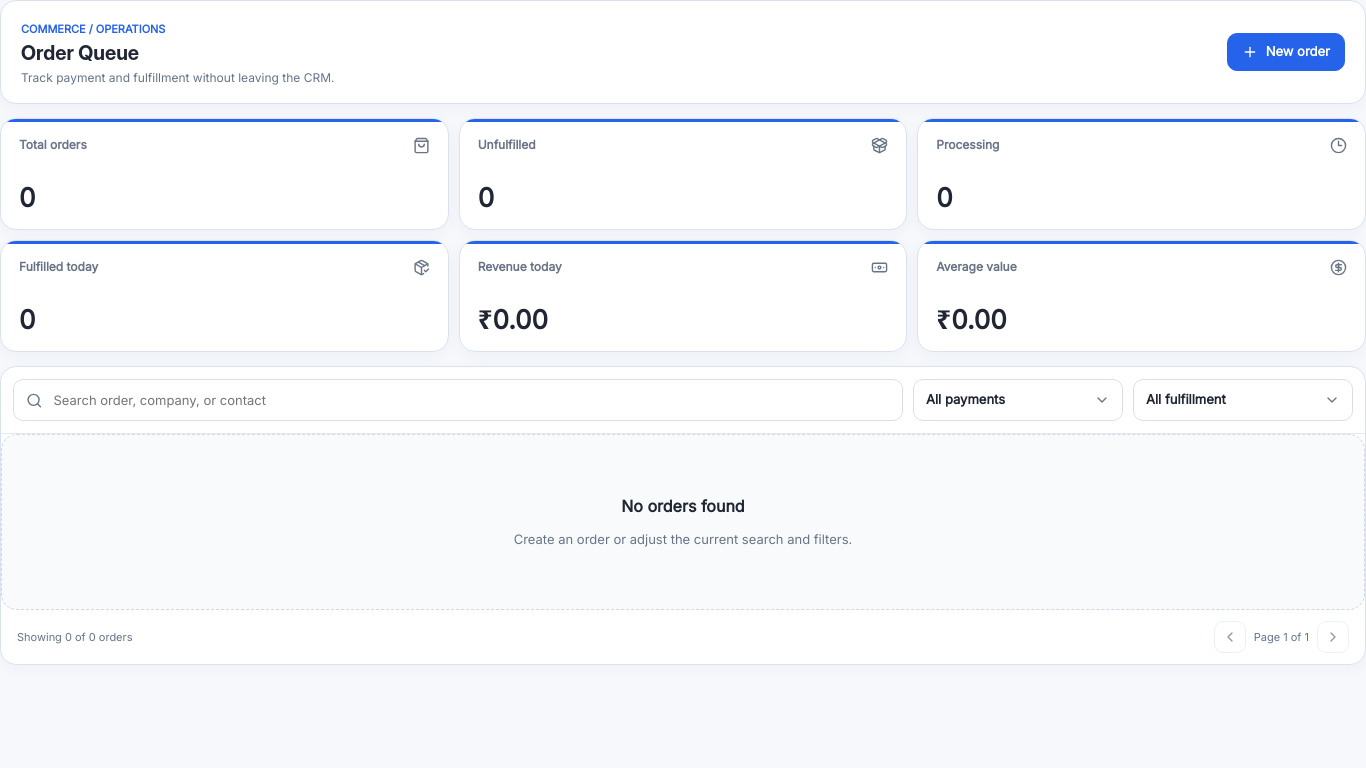
Test case: order record options › shows recently updated won companies first with separate, readable details
The width and height of the screenshot is (1366, 768).
Step 1. Click the button "New order" → (1286, 52), box [1227,33,1345,71]
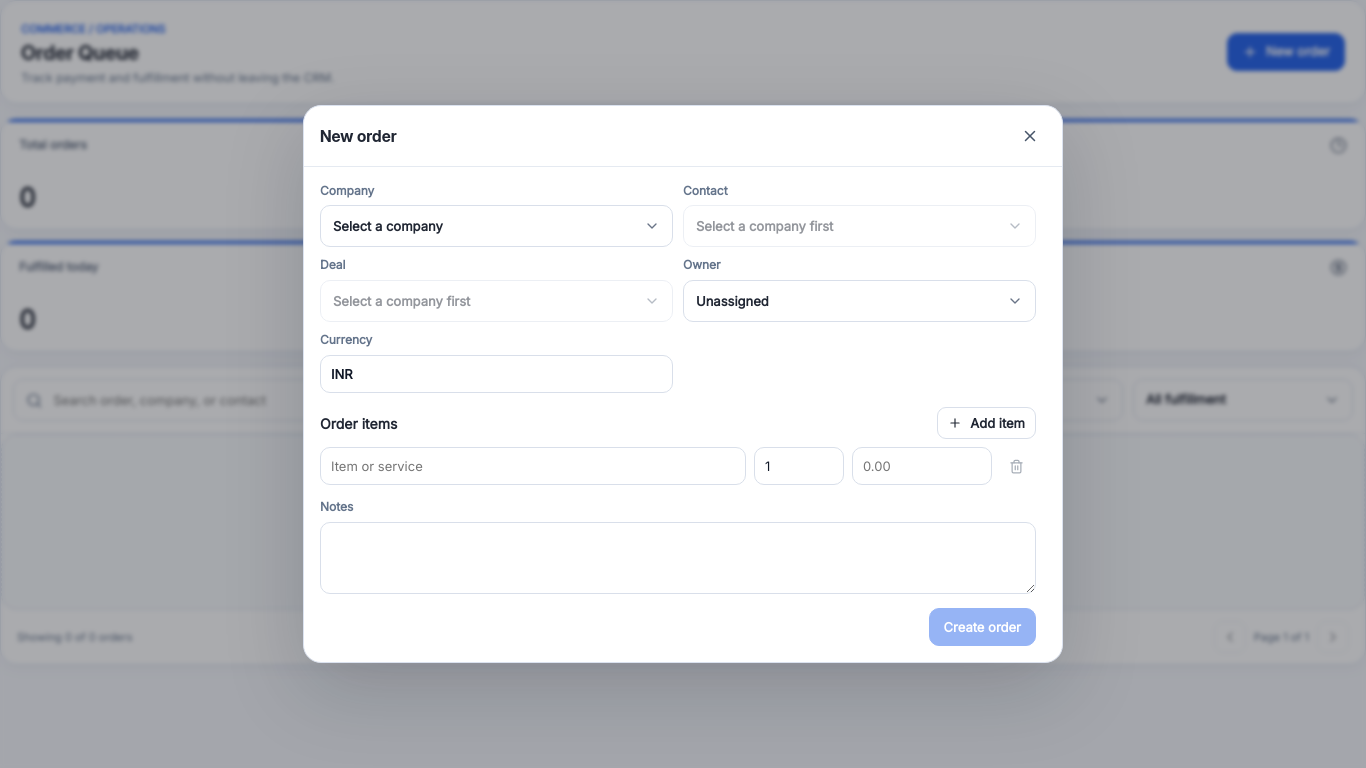
Step 2. Click the button "Select a company" → (388, 226), box [320,205,673,247]
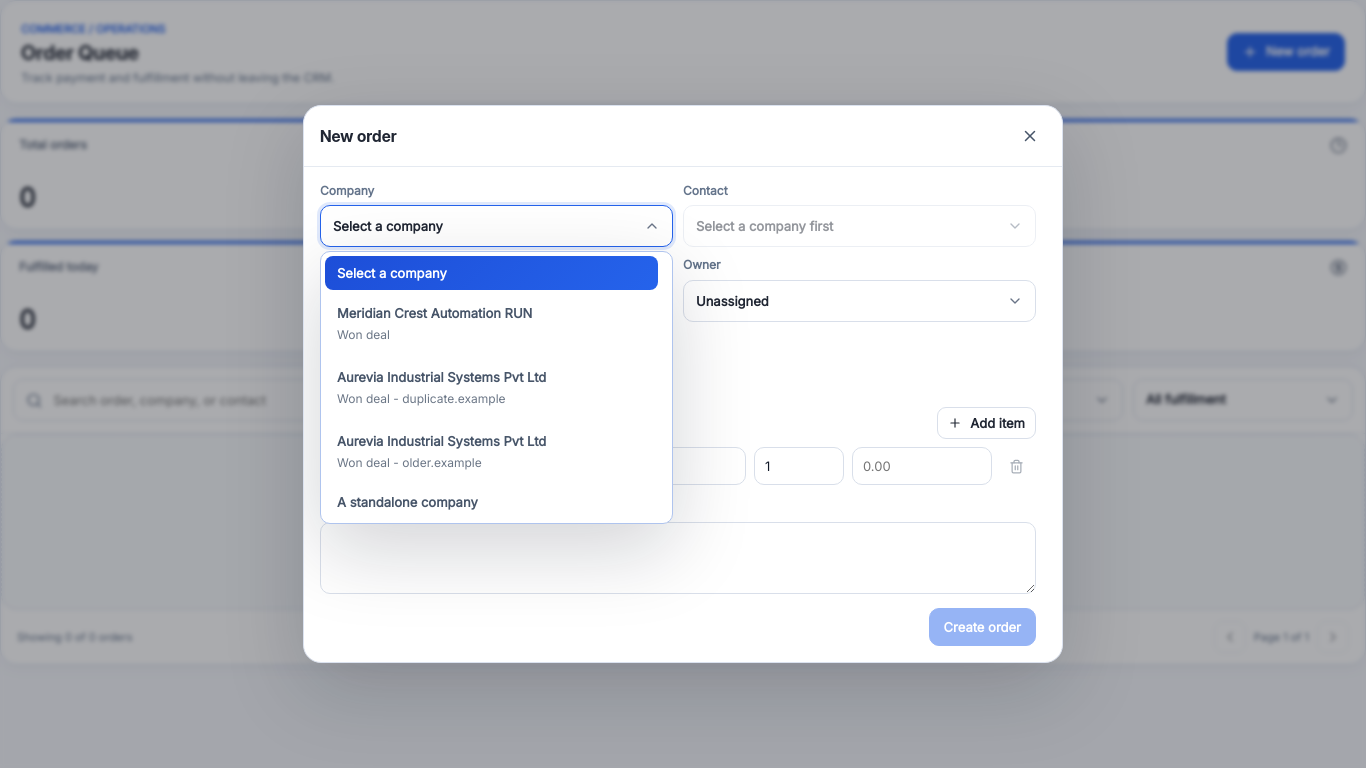
expect the options read "Select a company", "Meridian Crest Automation RUNWon deal", "Aurevia Industrial Systems Pvt LtdWon deal - duplicate.example", "Aurevia Industrial Systems Pvt LtdWon deal - older.example", "A standalone company", in this order: met, box [325,256,658,290]; [325,294,658,354]; [325,358,658,418]; [325,422,658,481]; [325,485,658,519]
expect the text "Won deal" is shown: met, box [337,327,390,342]
